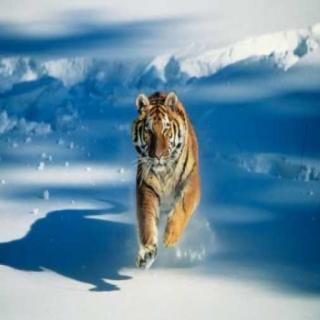Tiger: (130, 87, 202, 274)
